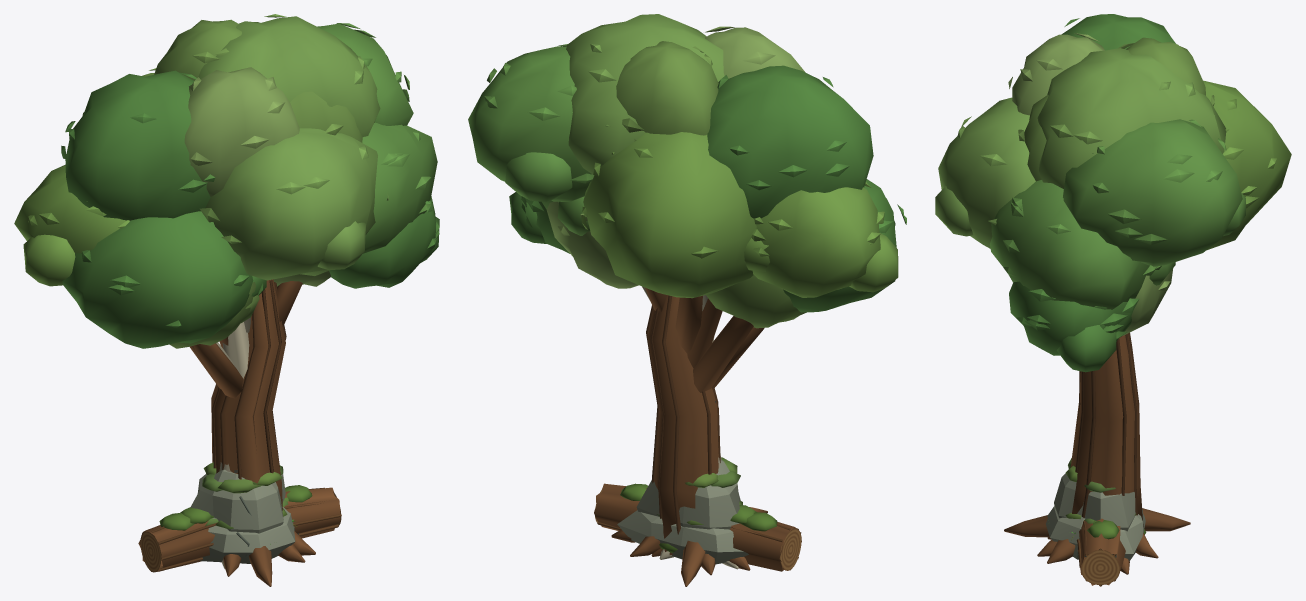
Rendered from woodland-kit.glb.
3 renders of one model, left to right at view 1: azimuth 30°, elevation 25°; view 2: azimuth 150°, elevation 25°; view 3: azimuth 270°, elevation 25°, orthographic. The views are drawn at different scales.
Visible parts, largest first — view 1: oak, birch, log, rockTall, rock; view 2: oak, birch, log, rockTall, rock; view 3: oak, birch, log, rockTall, rock.
Boxes of the visible parts, x1,y1,x2,y2 form: oak: [14, 14, 439, 586]; birch: [154, 19, 362, 568]; log: [138, 485, 341, 572]; rockTall: [190, 462, 285, 533]; rock: [200, 499, 298, 563]; oak: [468, 14, 906, 586]; birch: [546, 26, 806, 569]; log: [594, 483, 801, 571]; rockTall: [636, 457, 740, 529]; rock: [617, 501, 748, 564]; oak: [935, 14, 1291, 574]; birch: [1008, 33, 1214, 335]; log: [1076, 518, 1125, 586]; rockTall: [1054, 458, 1135, 531]; rock: [1046, 506, 1145, 560].
Size of the model in its own units: 6.93 by 8.45 by 5.44.
